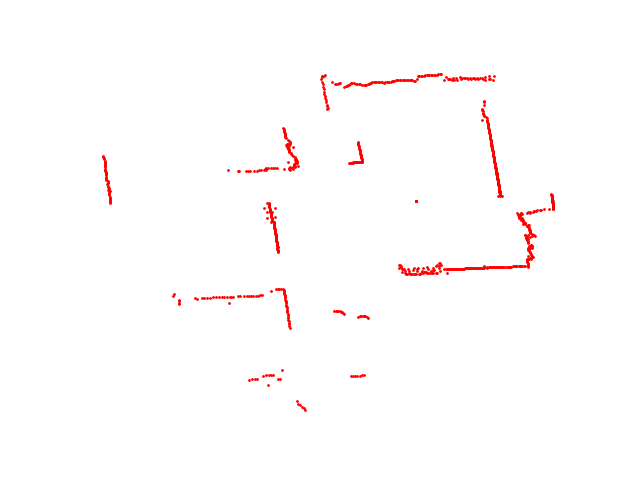person: (332, 307, 372, 320)
